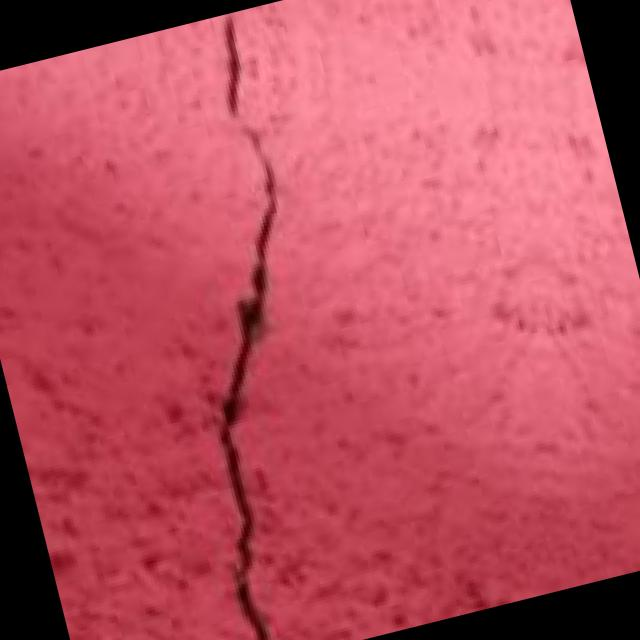crack: (69, 0, 471, 640)
